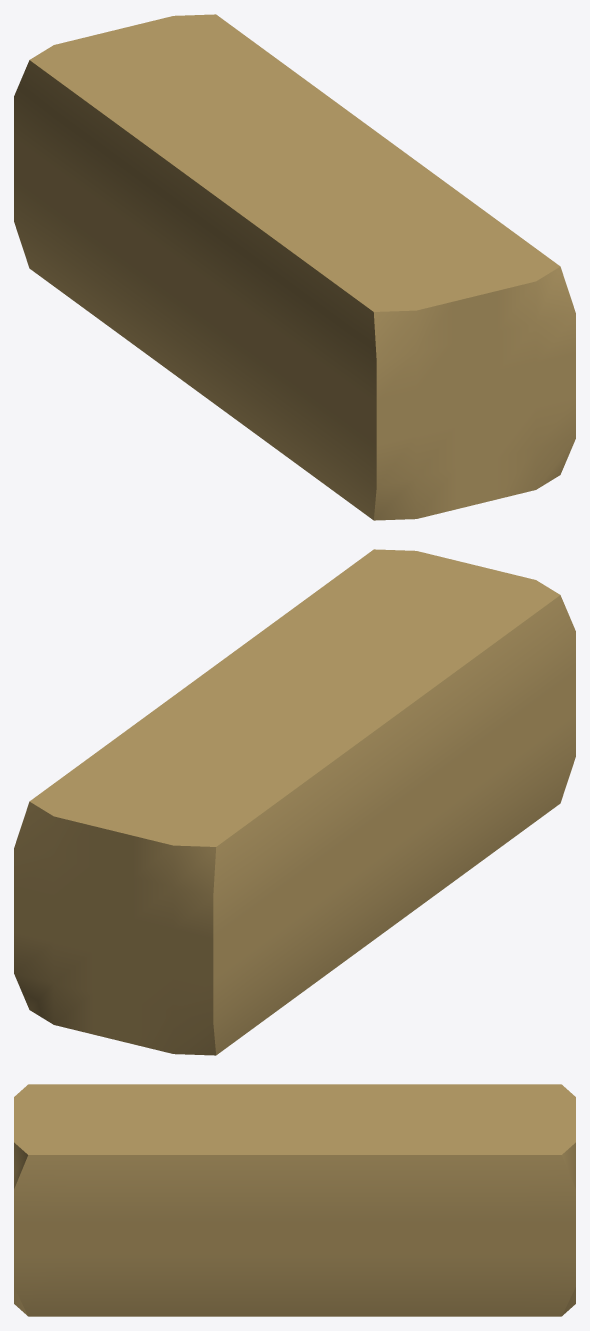
The model's file is Brick.fbx.
3 renders of one model, top to bottom at view 1: azimuth 30°, elevation 25°; view 2: azimuth 150°, elevation 25°; view 3: azimuth 270°, elevation 25°, orthographic. The views are drawn at different scales.
Visible parts, largest first — view 1: pCube13; view 2: pCube13; view 3: pCube13.
Part boxes in pixels (bbox=[...]): pCube13: bbox=[14, 14, 575, 520]; pCube13: bbox=[14, 549, 575, 1055]; pCube13: bbox=[14, 1084, 575, 1316].
Size of the model in its own units: 0.714 by 0.714 by 2.25.
